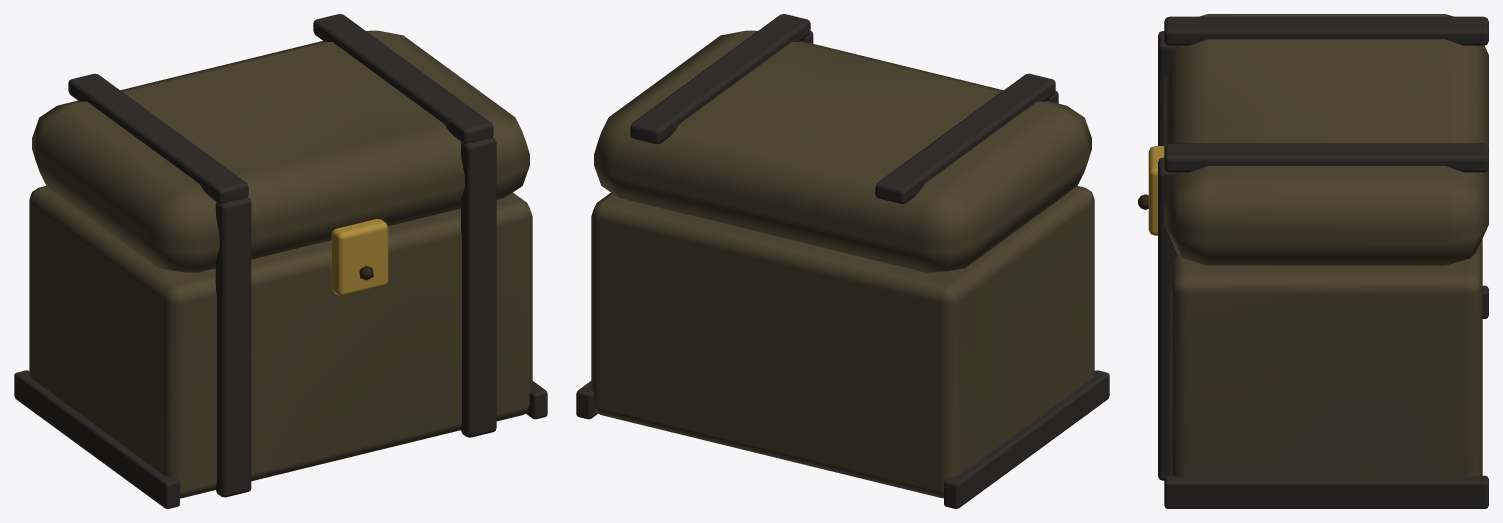
The model's file is furn_old_trunk.glb.
3 renders of one model, left to right at view 1: azimuth 30°, elevation 25°; view 2: azimuth 150°, elevation 25°; view 3: azimuth 270°, elevation 25°, orthographic. The views are drawn at different scales.
Parts seen in each view (by area): view 1: furn_old_trunk_main; view 2: furn_old_trunk_main; view 3: furn_old_trunk_main.
Part boxes in pixels (left/top/right/bottom): furn_old_trunk_main: left=14, top=14, right=547, bottom=508; furn_old_trunk_main: left=576, top=14, right=1109, bottom=508; furn_old_trunk_main: left=1138, top=14, right=1488, bottom=508.
Bounding box in the file's own units: 0.75 × 0.575 × 0.5619.
